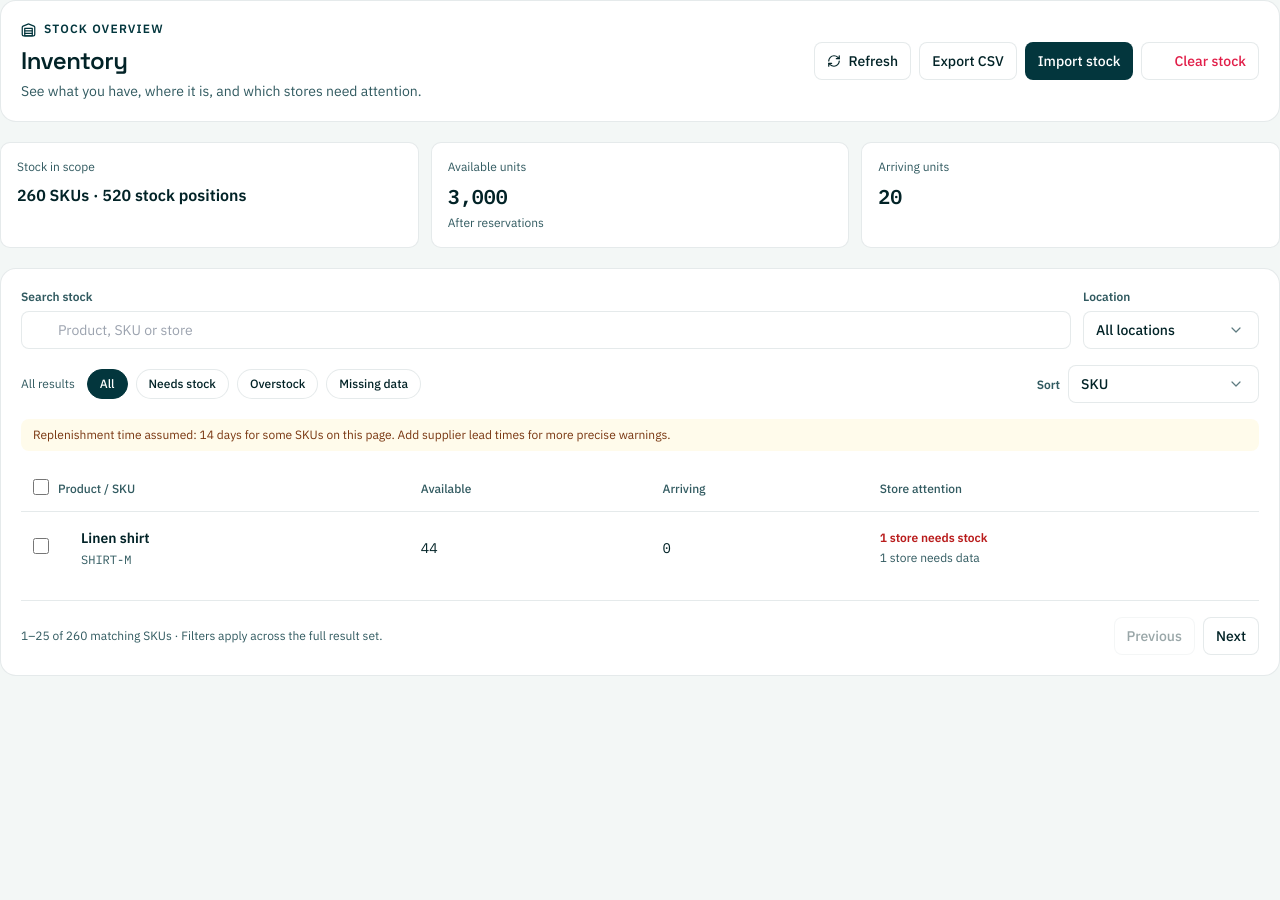
Test: expands store details with honest shortage guidance and no pooled-as-store cover
Click the button with aria-label "show stores for shirt-m" at (104, 548), box [58,528,150,568]
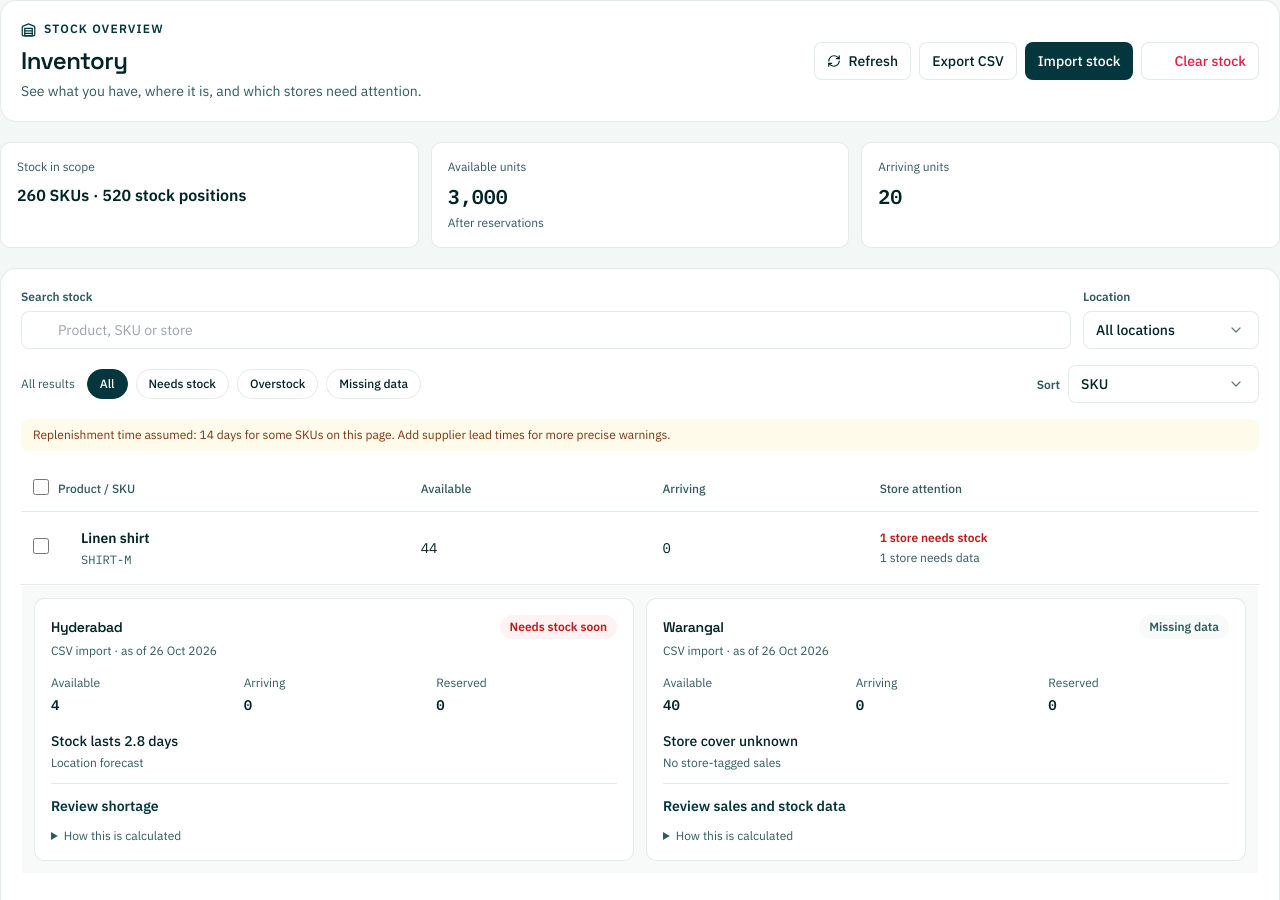
Now the text "Stock lasts 2.8 days" is shown, box [51,732,178,750]
Now the link "Review shortage" is shown, box [51,797,158,815]
Now the text "Store cover unknown" is shown, box [663,732,798,750]
